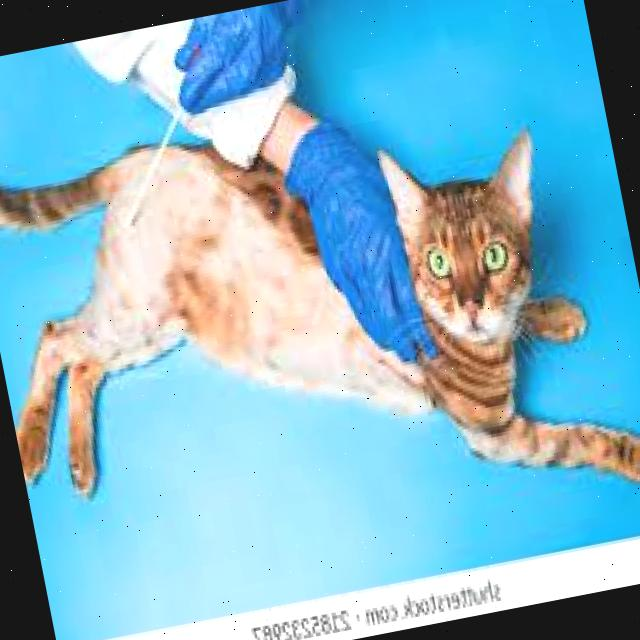cat-hairloss: (113, 143, 354, 434)
